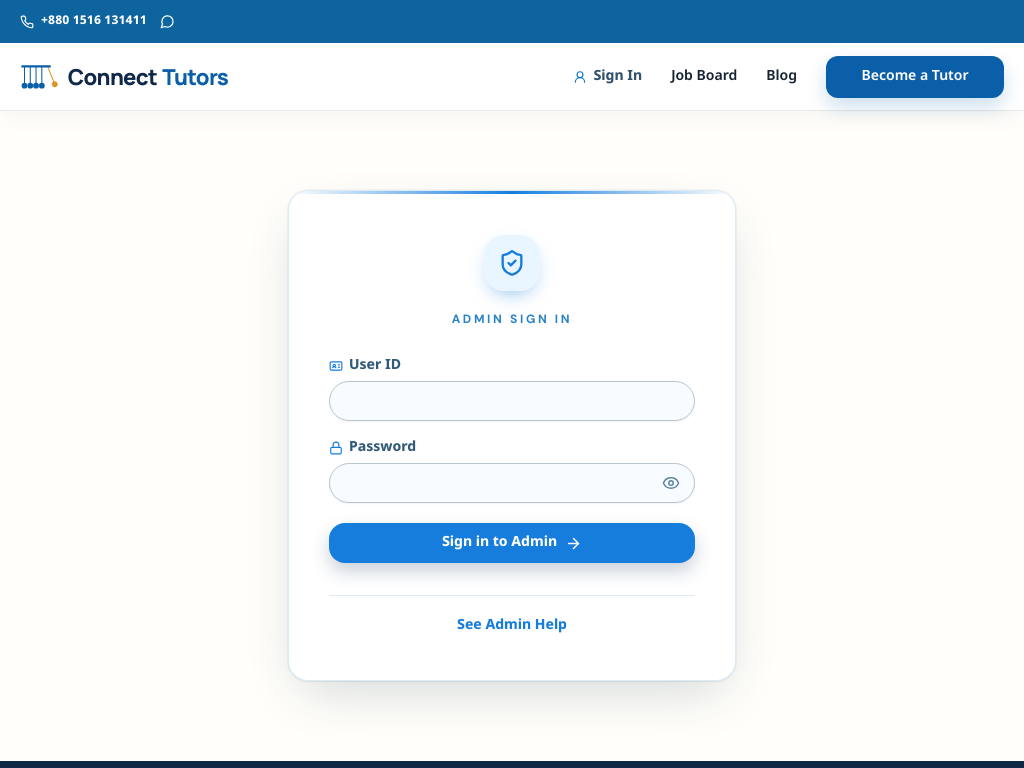
Test: Admin Login password visibility › toggles the Admin sign-in field between masked and visible text without changing password-manager metadata
What coordinates should you click on to do the following:
click the button named "Show password"
I would click on:
 (671, 483)
Its box is [647, 463, 695, 503].
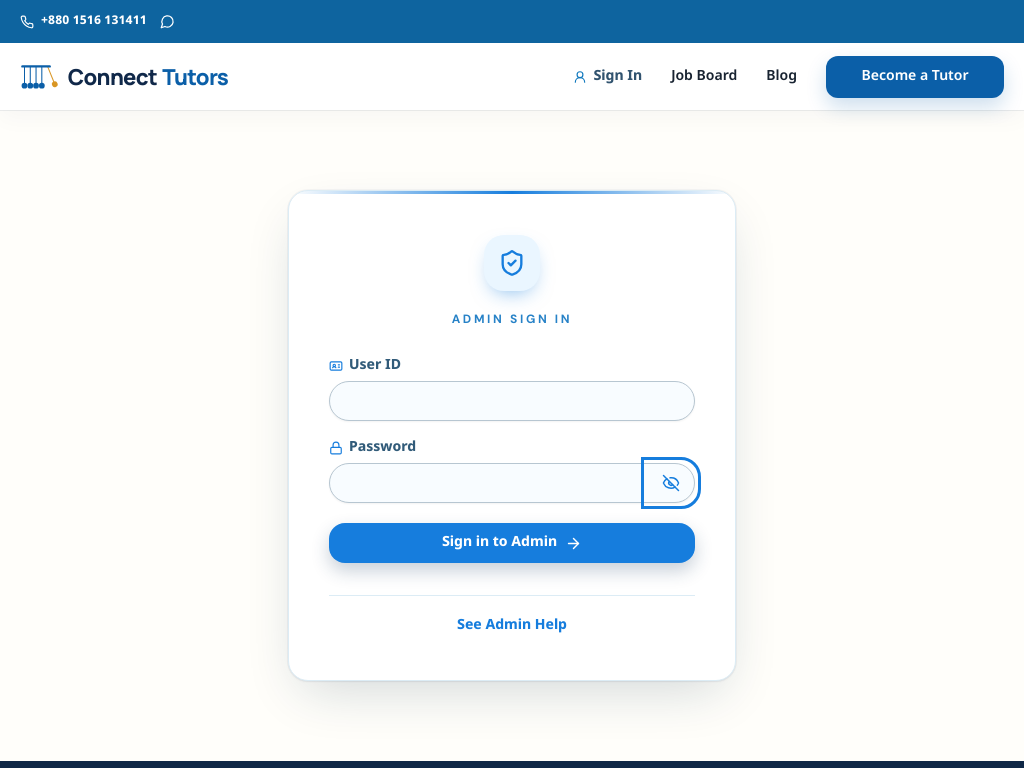
Expected: the button named "Hide password" is shown, [647, 463, 695, 503]
